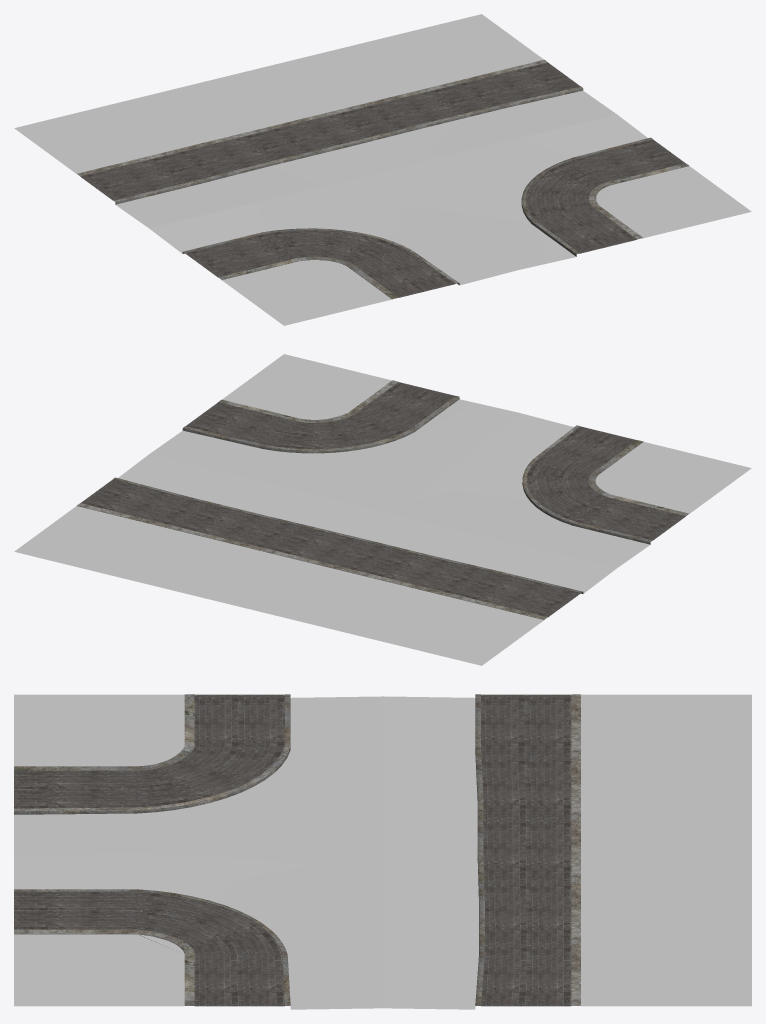
The model's file is Ground_Road_T_Intersection.fbx.
3 views of the same model, one above another, from view 1: azimuth 30°, elevation 25°; view 2: azimuth 150°, elevation 25°; view 3: azimuth 270°, elevation 25° (orthographic). The views are drawn at different scales.
Visible parts, largest first — view 1: Ground_Road_T_Intersection; view 2: Ground_Road_T_Intersection; view 3: Ground_Road_T_Intersection.
Part boxes in pixels (x1=…): Ground_Road_T_Intersection: x1=14, y1=14, x2=751, y2=325; Ground_Road_T_Intersection: x1=14, y1=354, x2=751, y2=665; Ground_Road_T_Intersection: x1=14, y1=694, x2=751, y2=1009.
Size of the model in its own units: 2000 by 10.83 by 2000.
